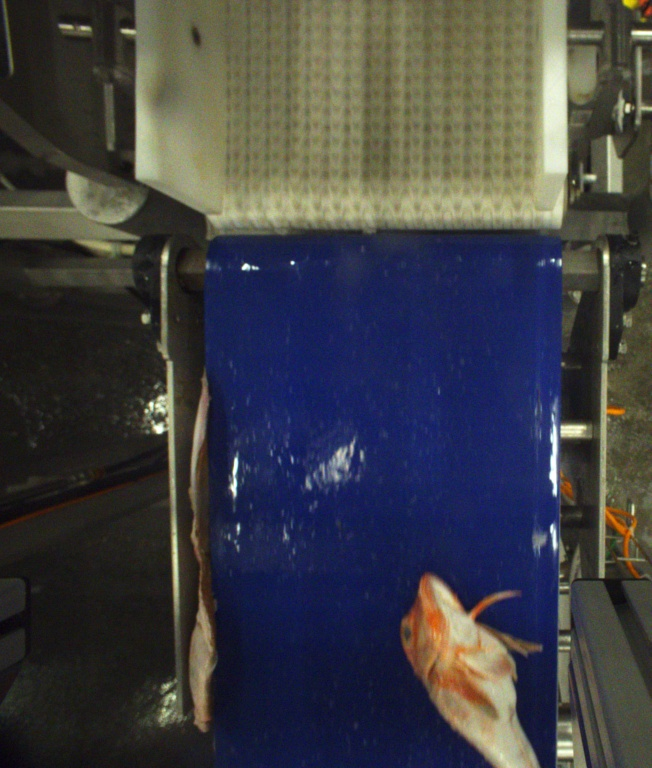GUU: (401, 569, 546, 768)
